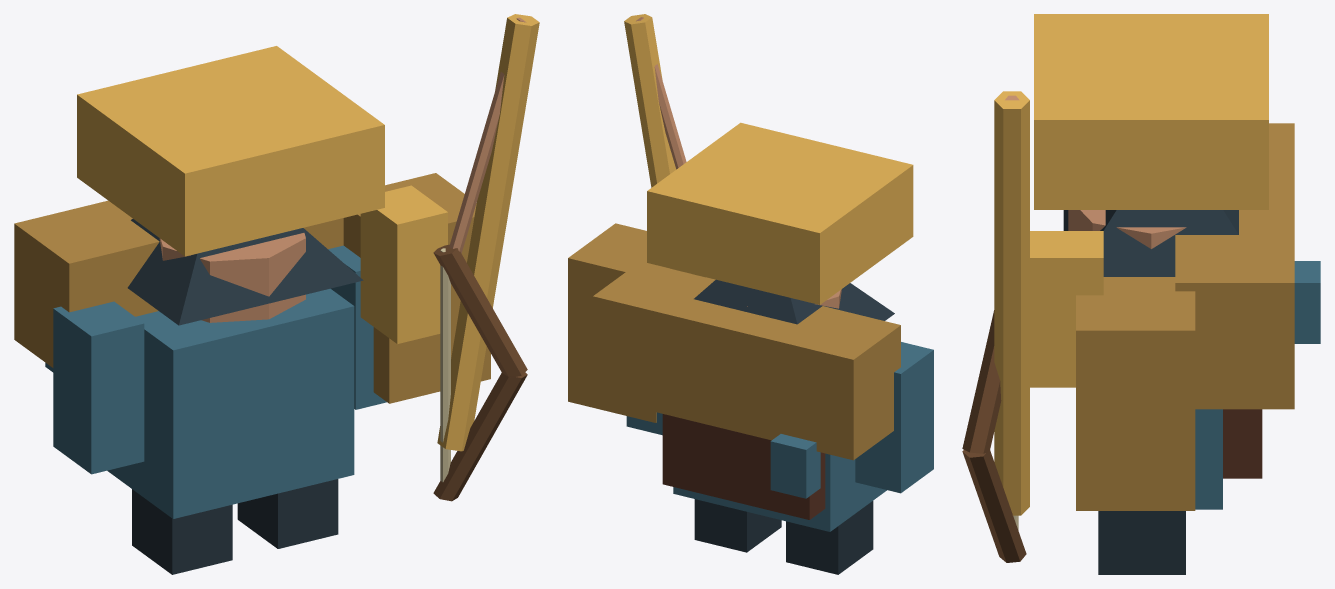
The model's file is archer.obj.
3 views of the same model, side by side, from view 1: azimuth 30°, elevation 25°; view 2: azimuth 150°, elevation 25°; view 3: azimuth 270°, elevation 25° (orthographic). The views are drawn at different scales.
Visible parts, largest first — view 1: ranged; view 2: ranged; view 3: ranged.
Boxes of the visible parts, bbox=[...] form: ranged: bbox=[14, 14, 539, 574]; ranged: bbox=[568, 14, 933, 574]; ranged: bbox=[962, 14, 1320, 574].
Bounding box in the file's own units: 1.26 × 1.54 × 0.9001.
